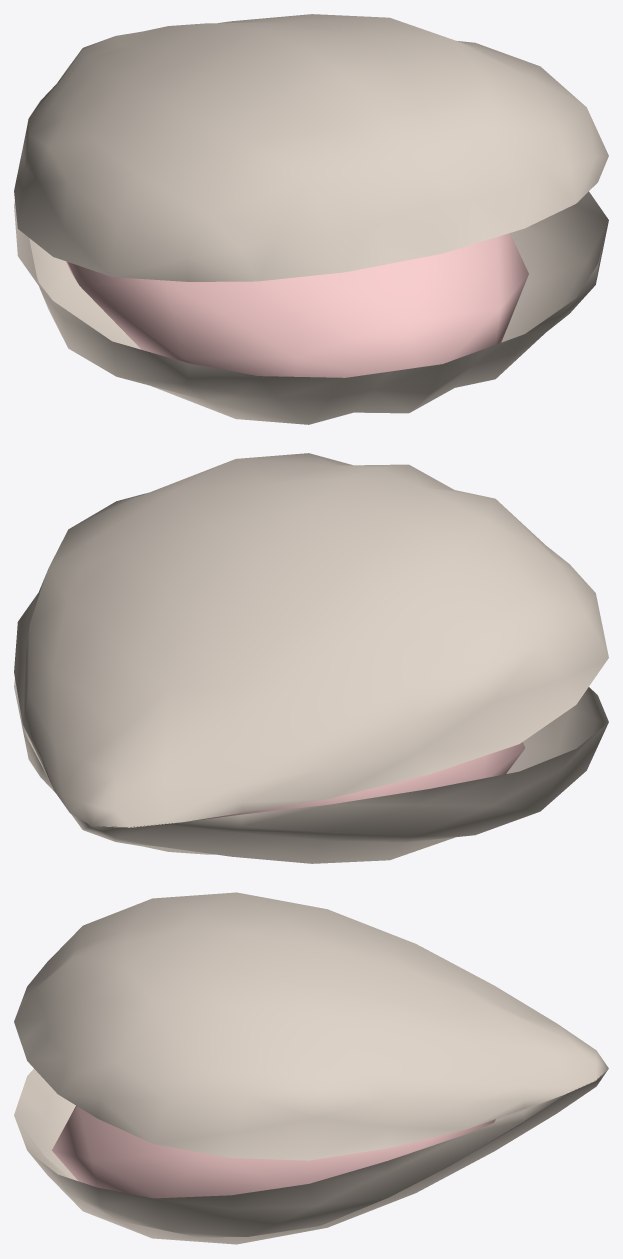
The model's file is NOVELO_CLAM.gltf.
3 renders of one model, top to bottom at view 1: azimuth 30°, elevation 25°; view 2: azimuth 150°, elevation 25°; view 3: azimuth 270°, elevation 25°, orthographic. The views are drawn at different scales.
Parts seen in each view (by area): view 1: node-0; view 2: node-0; view 3: node-0.
Part boxes in pixels (<box>): node-0: <box>14,14,608,424</box>; node-0: <box>14,453,608,863</box>; node-0: <box>14,892,608,1244</box>.
Size of the model in its own units: 172 by 101 by 200.
